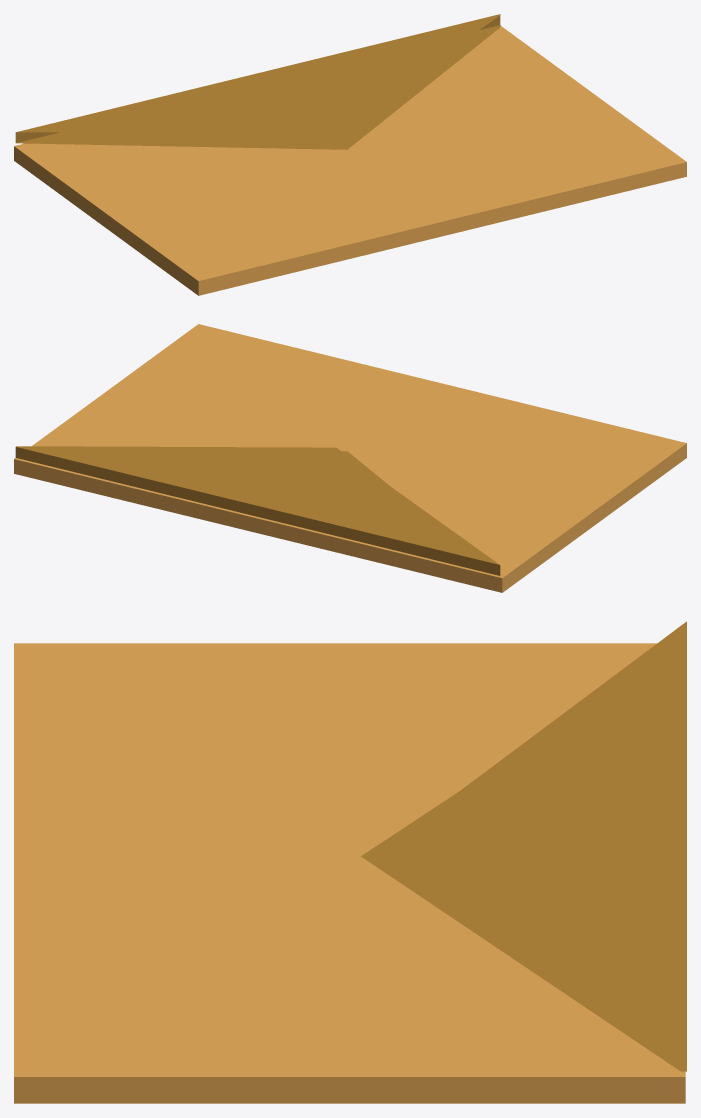
File: envelope.fbx
3 views of the same model, one above another, from view 1: azimuth 30°, elevation 25°; view 2: azimuth 150°, elevation 25°; view 3: azimuth 270°, elevation 25° (orthographic). The views are drawn at different scales.
Parts seen in each view (by area): view 1: Cube.001; view 2: Cube.001; view 3: Cube.001.
Boxes of the visible parts, left/top/right/bottom form: Cube.001: left=14, top=14, right=686, bottom=295; Cube.001: left=14, top=324, right=686, bottom=592; Cube.001: left=14, top=621, right=686, bottom=1103.
Size of the model in its own units: 622 by 33.73 by 408.
